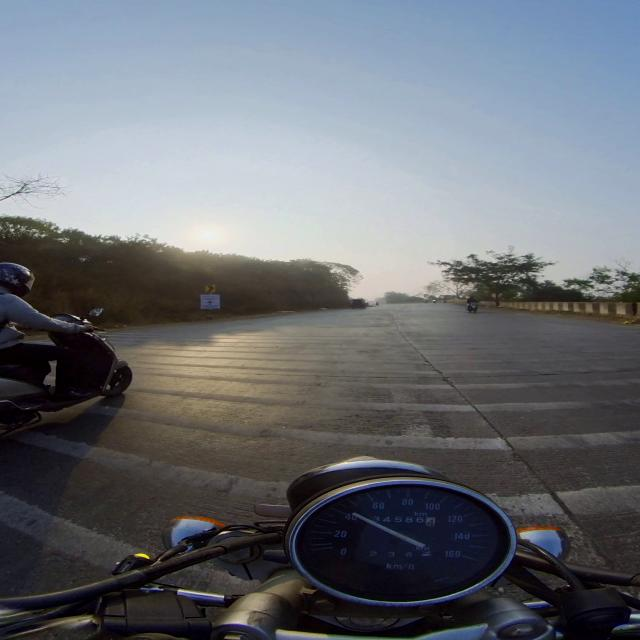motorcycle: (0, 458, 639, 639), (0, 329, 132, 436), (467, 302, 478, 312)
